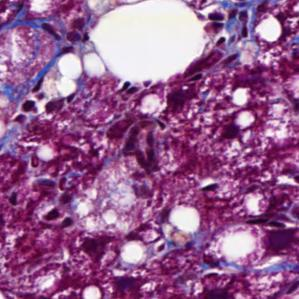inflammation: (9, 93, 67, 124), (196, 8, 227, 42)
